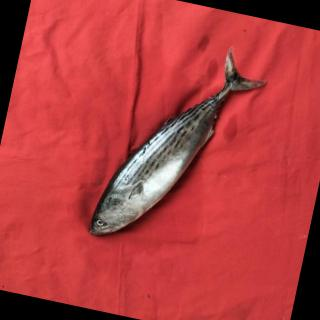Ikan: (78, 22, 279, 276)
